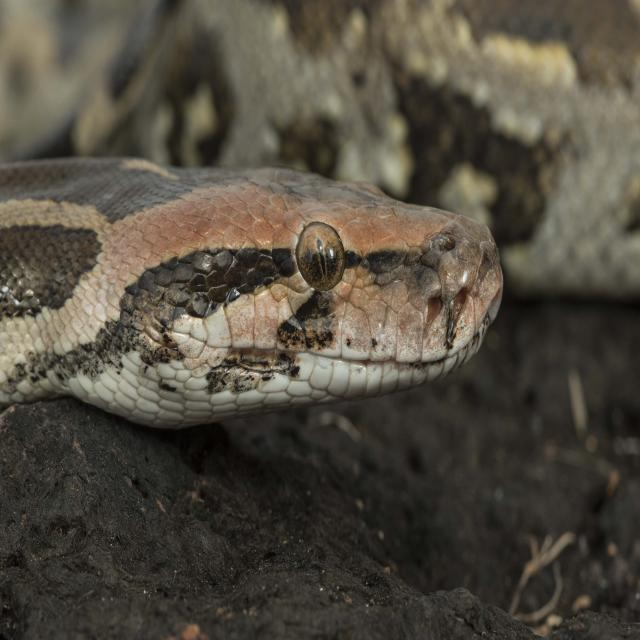Snake: (0, 154, 504, 430)
